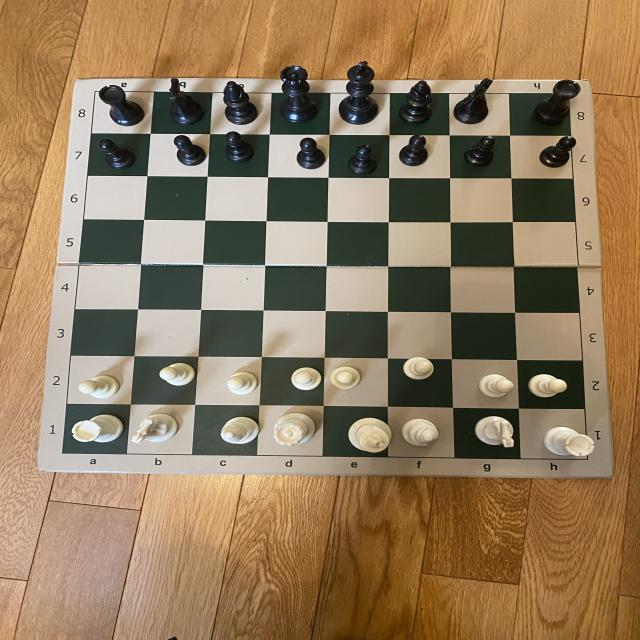Chessboard-Corners: (50, 446, 72, 459), (583, 452, 595, 466), (88, 86, 99, 99)
